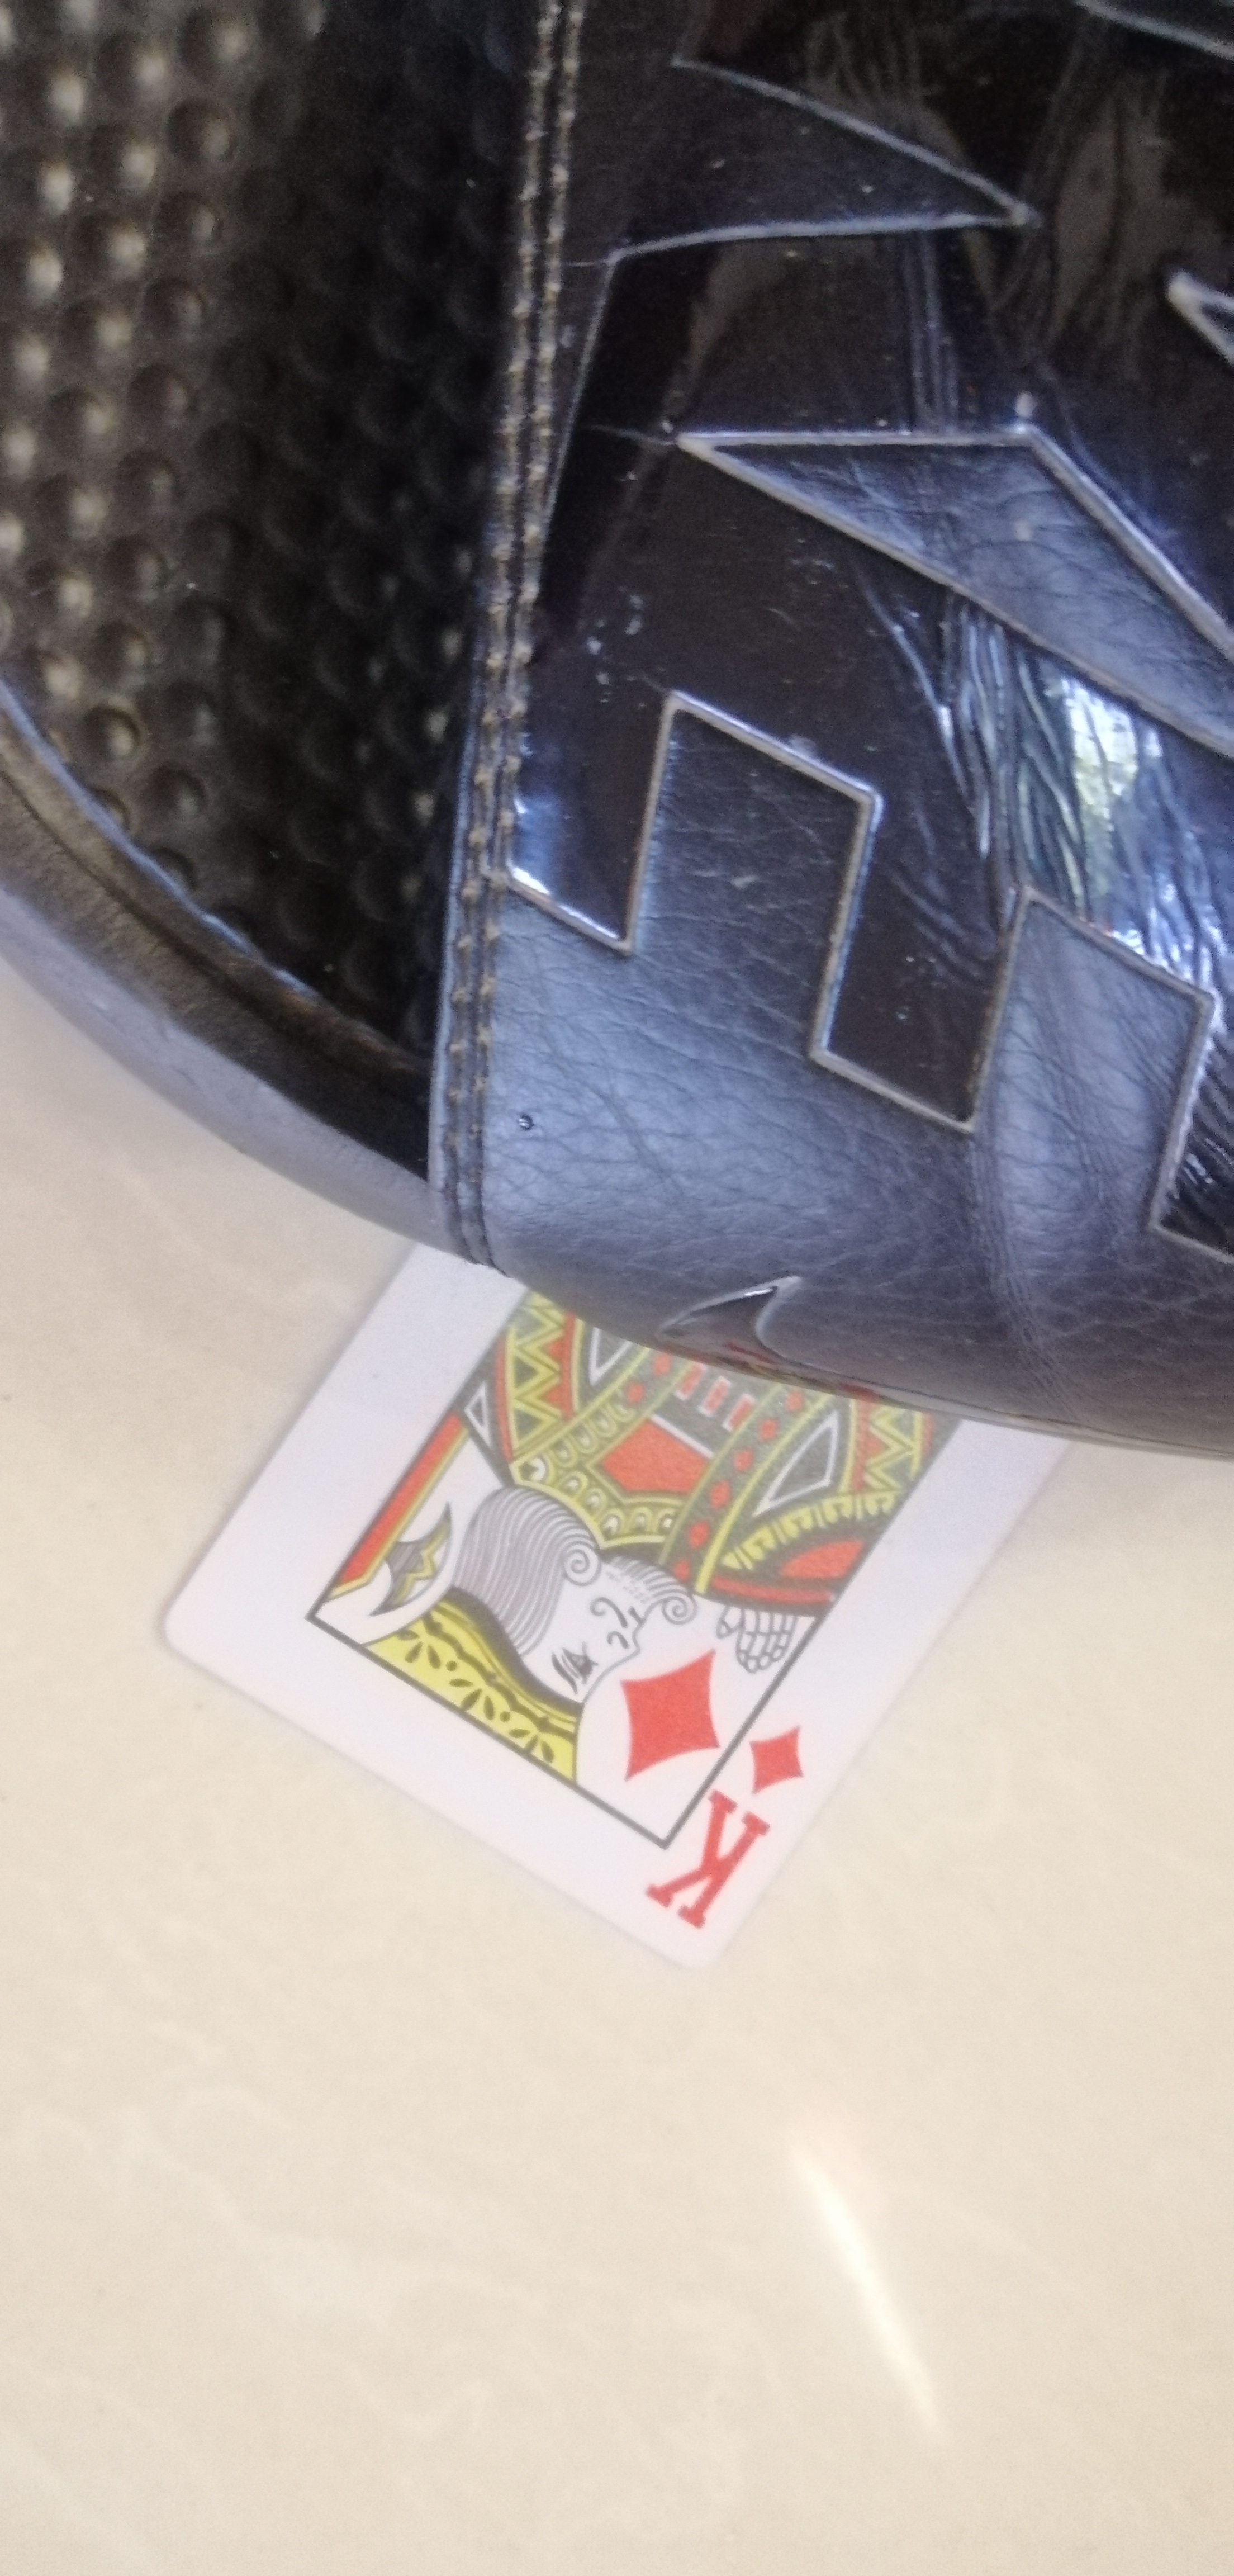king: (146, 1196, 1088, 1970)
